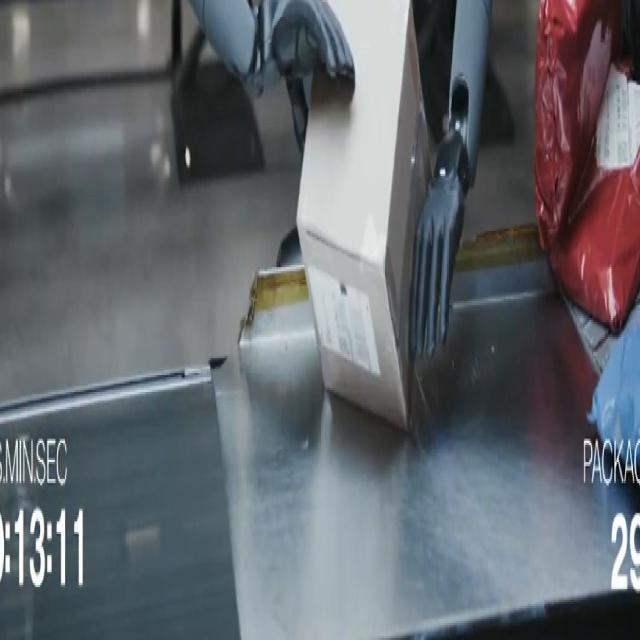package: (297, 0, 429, 430), (535, 0, 639, 332), (589, 308, 639, 466)
